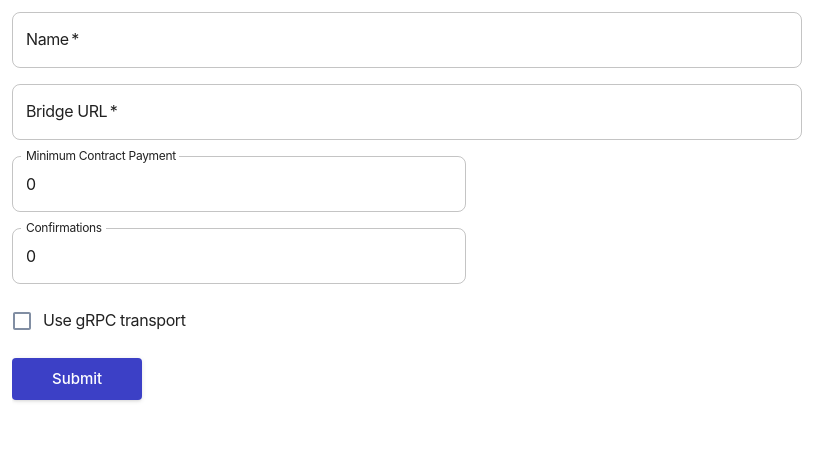
BridgeForm › validates input
Click the button "Submit" at (77, 379), box [12,358,142,400]
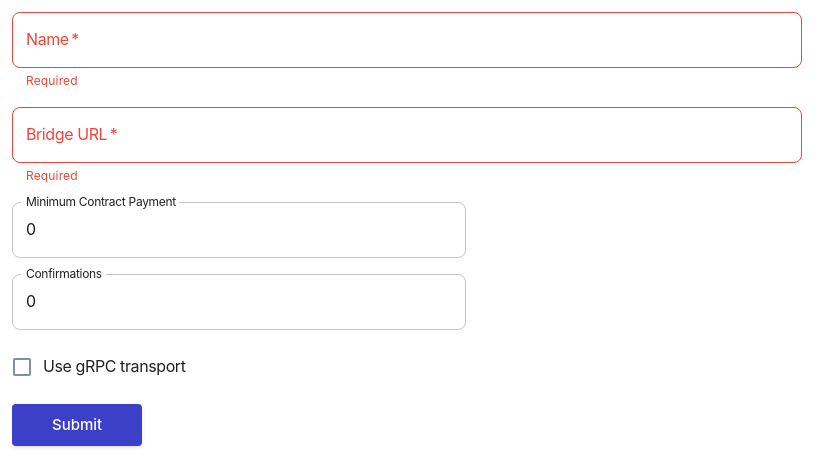
Now the text with test id "name-helper-text" reads "Required", box [26,73,78,88]
Now the text with test id "url-helper-text" reads "Required", box [26,168,78,183]
